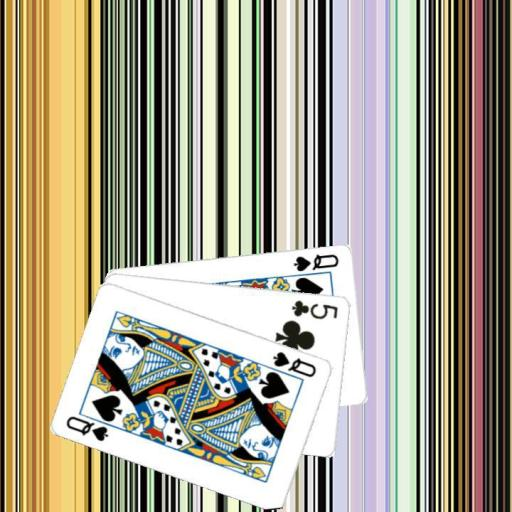5C: (289, 297, 340, 320)
QS: (270, 348, 319, 379), (64, 412, 111, 443), (291, 251, 341, 273)
